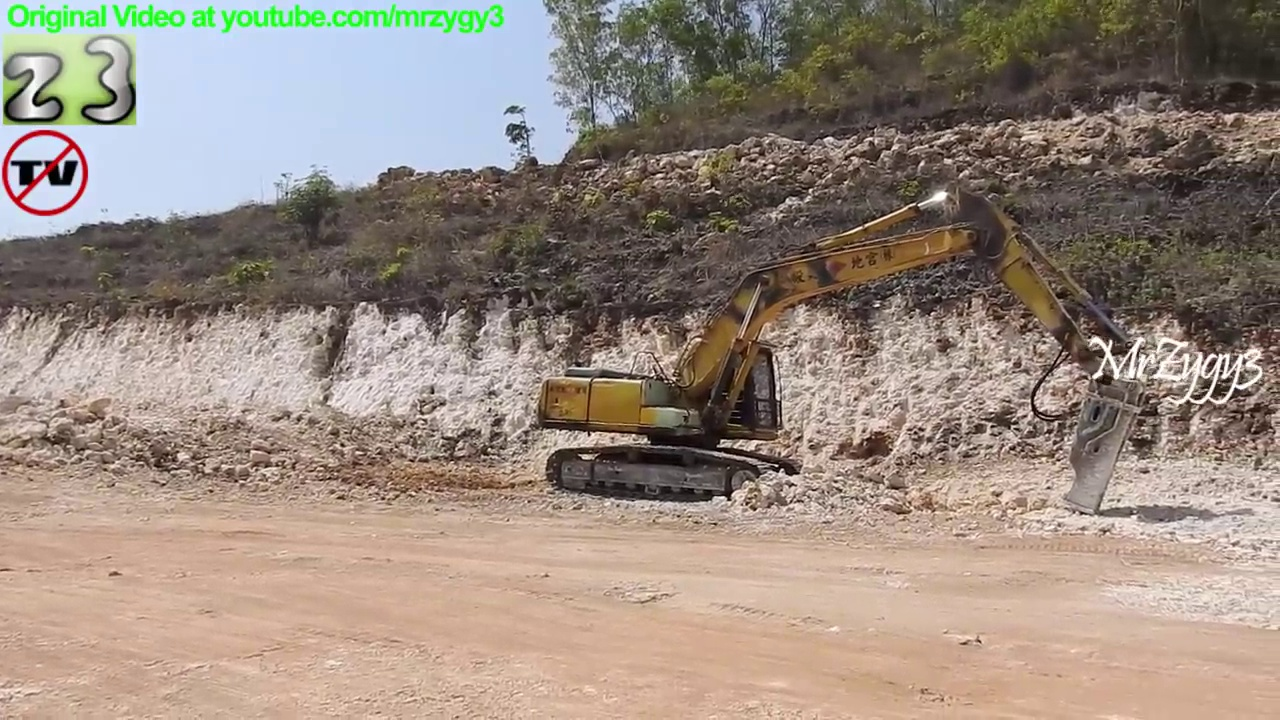excavator breaker: (534, 182, 1154, 527)
